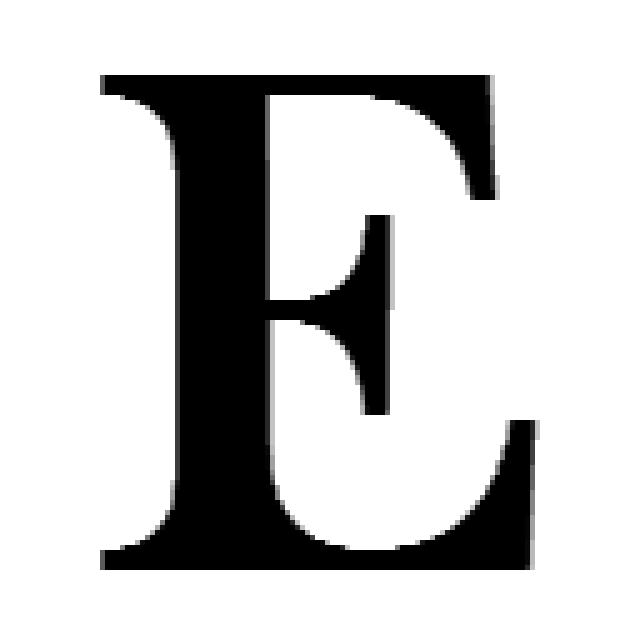E: (100, 75, 530, 570)
